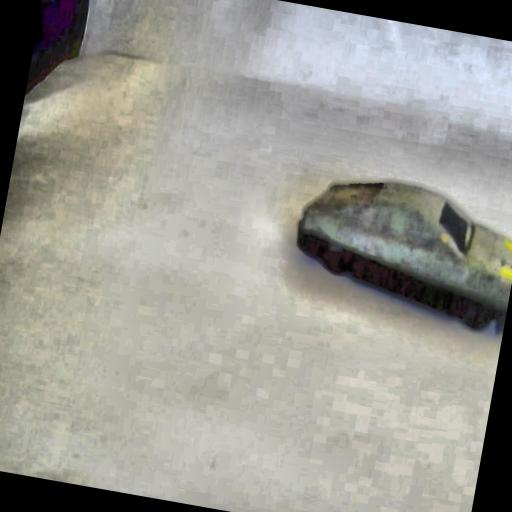normal_car: (280, 159, 512, 338)
